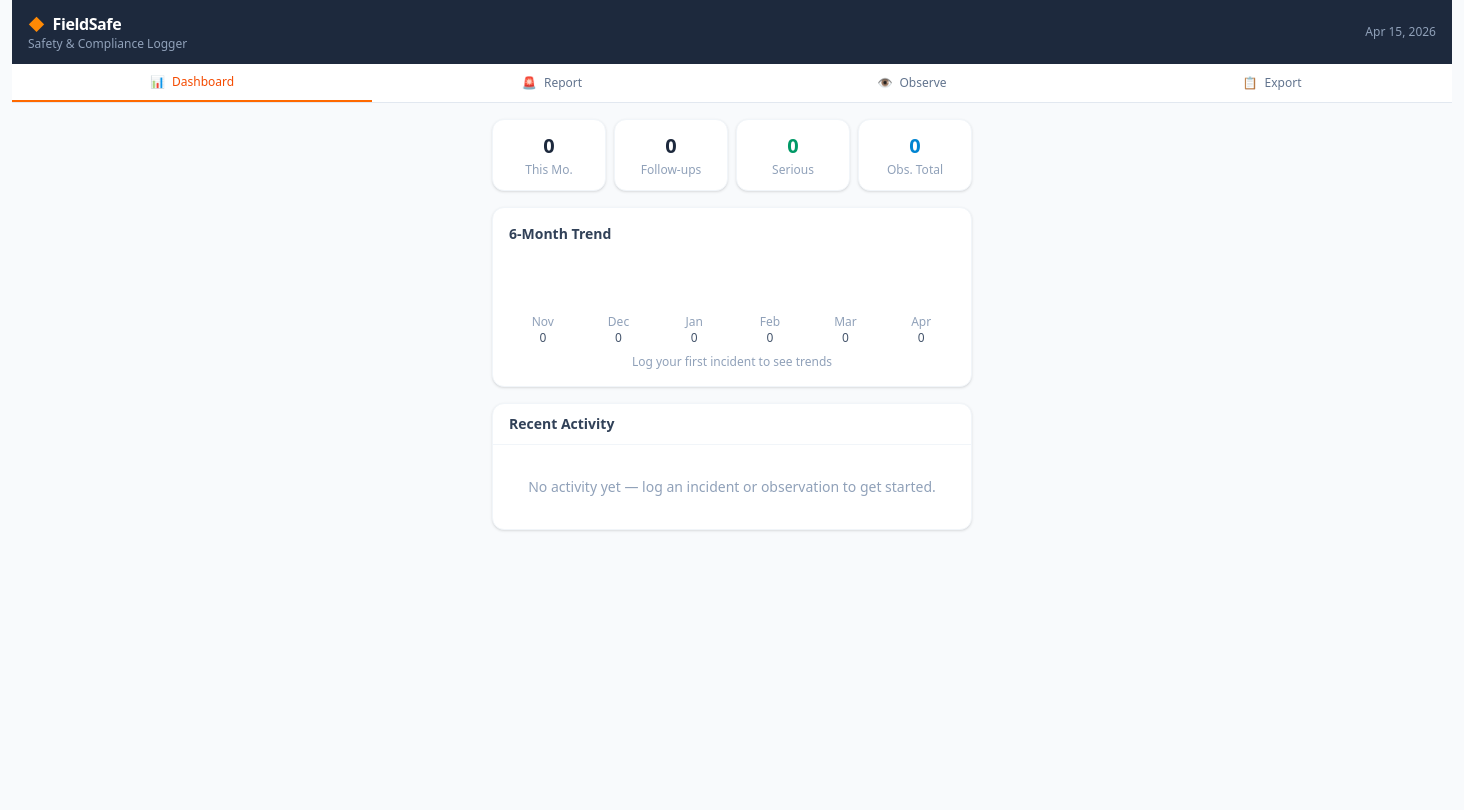
Test case: Smoke test › navigates to Observe tab and shows form
Click the button "👁️ Observe".
click(912, 83)  # box [732,64,1092,102]
(page scrolled)
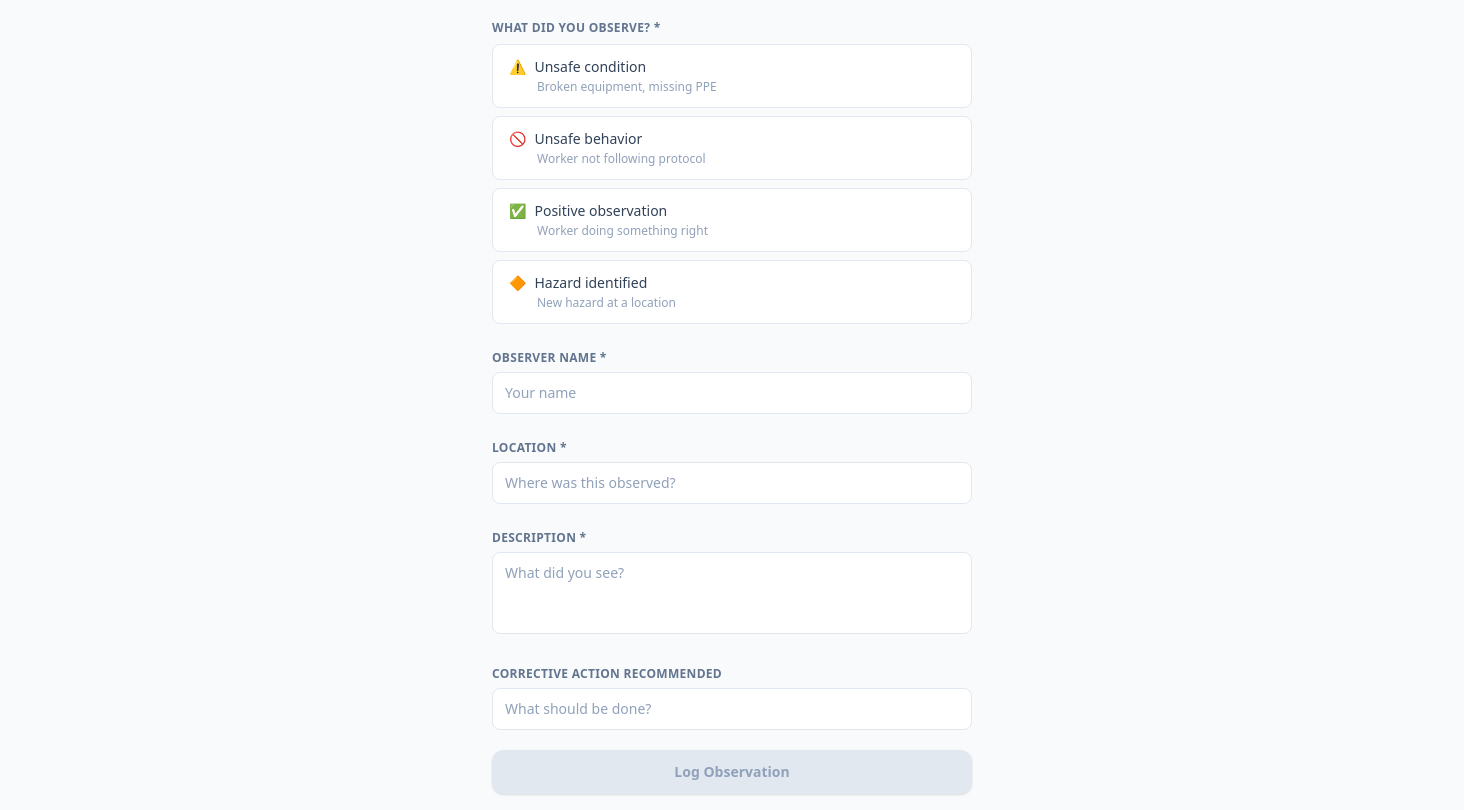
Now the text "Unsafe condition" is shown, box [534,57,646,76]
Now the text "Positive observation" is shown, box [534,201,667,220]
Now the button "Log Observation" is shown, box [492,750,972,794]
